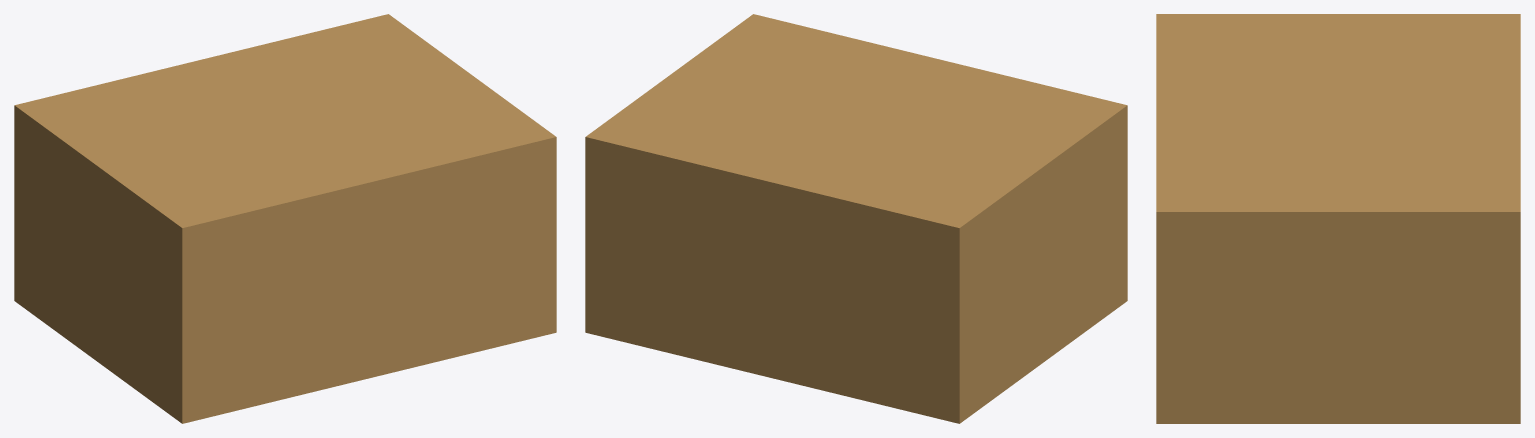
3 views of the same model, side by side, from view 1: azimuth 30°, elevation 25°; view 2: azimuth 150°, elevation 25°; view 3: azimuth 270°, elevation 25° (orthographic). The views are drawn at different scales.
Parts seen in each view (by area): view 1: RUN-080-S05-NOG-00; view 2: RUN-080-S05-NOG-00; view 3: RUN-080-S05-NOG-00.
Boxes of the visible parts, bbox=[...] form: RUN-080-S05-NOG-00: bbox=[14, 14, 556, 423]; RUN-080-S05-NOG-00: bbox=[585, 14, 1127, 423]; RUN-080-S05-NOG-00: bbox=[1156, 14, 1520, 423].
Size of the model in its own units: 0.09 by 0.045 by 0.07.
